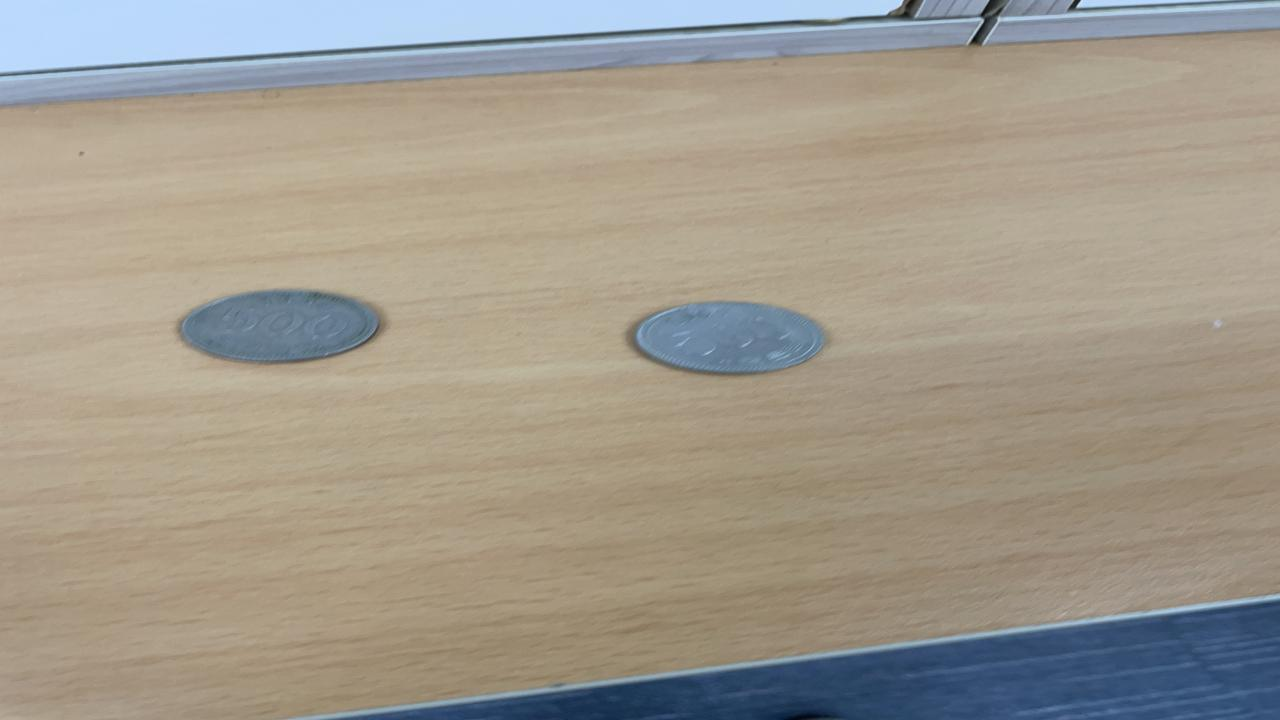coin: (171, 287, 390, 367), (628, 297, 834, 376)
